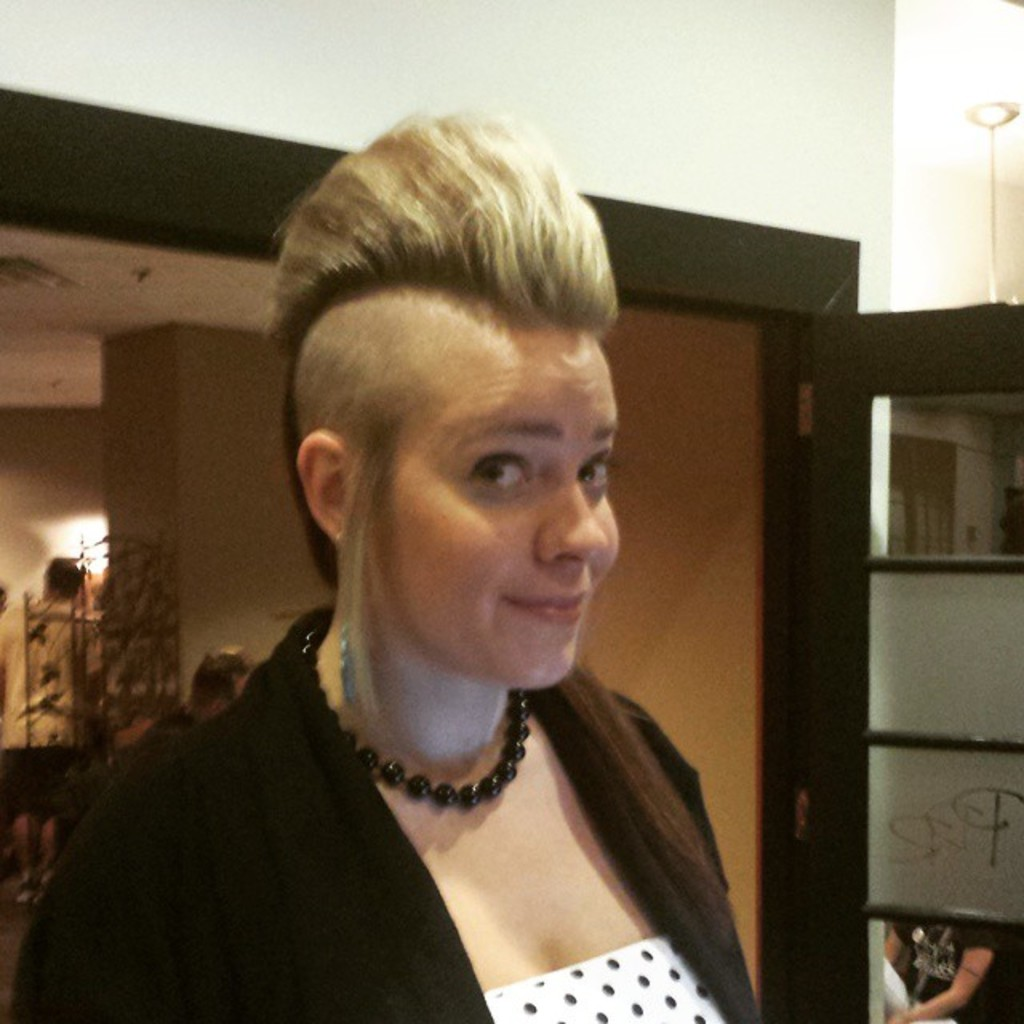Person: (882, 922, 992, 1023)
